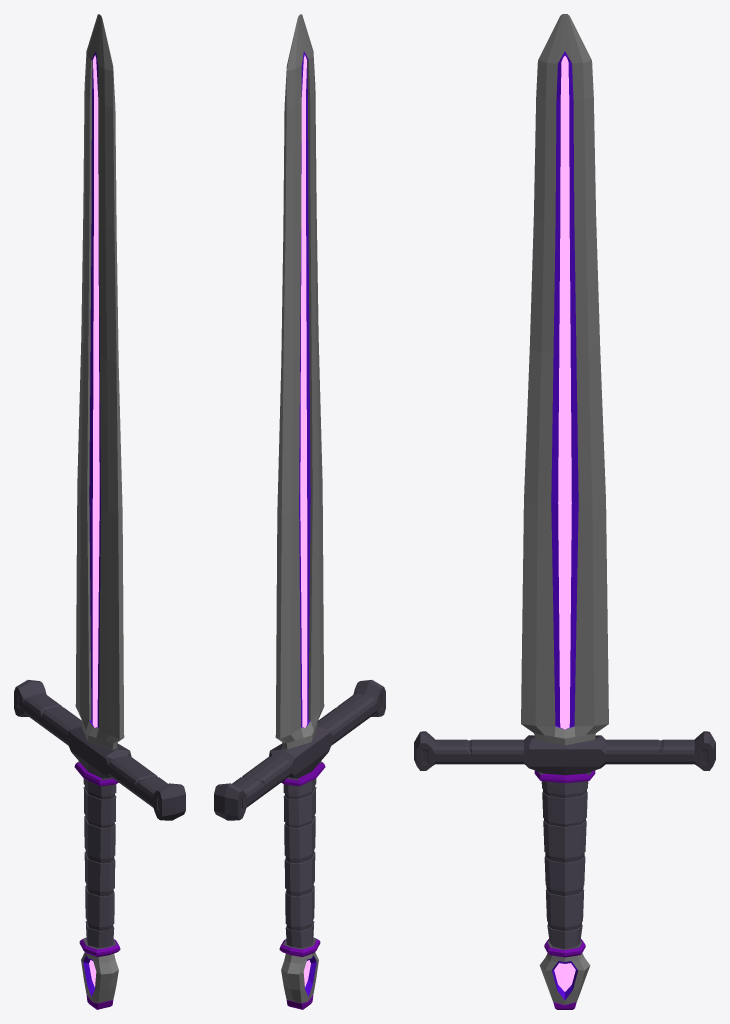
File: Sword.fbx
3 views of the same model, side by side, from view 1: azimuth 30°, elevation 25°; view 2: azimuth 150°, elevation 25°; view 3: azimuth 270°, elevation 25° (orthographic).
Visible parts, largest first — view 1: Sword; view 2: Sword; view 3: Sword.
Boxes of the visible parts, x1,y1,x2,y2 form: Sword: (14,14,185,1009); Sword: (214,14,385,1009); Sword: (414,14,715,1009).
Bounding box in the file's own units: 0.0368 × 1.05 × 0.2881.
